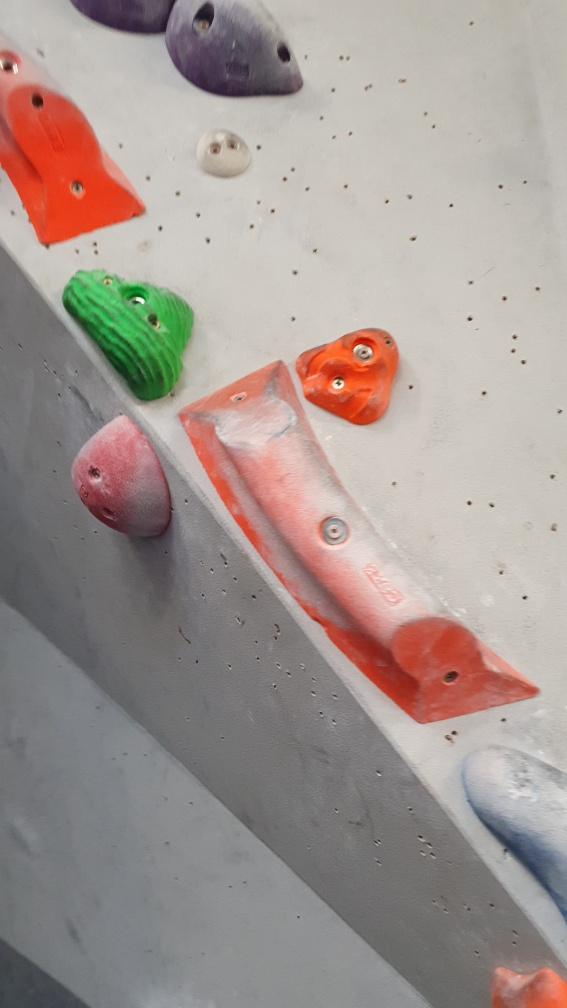Jug: (59, 261, 195, 403), (165, 1, 310, 99), (291, 323, 405, 424)
Pinch: (177, 359, 541, 728), (1, 25, 147, 249), (464, 738, 567, 916)
Sloper: (68, 411, 179, 543)
